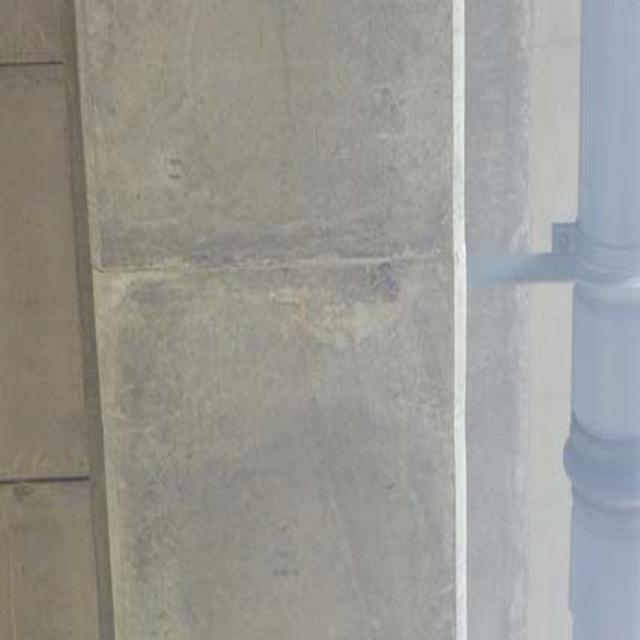spalling: (89, 250, 412, 317)
